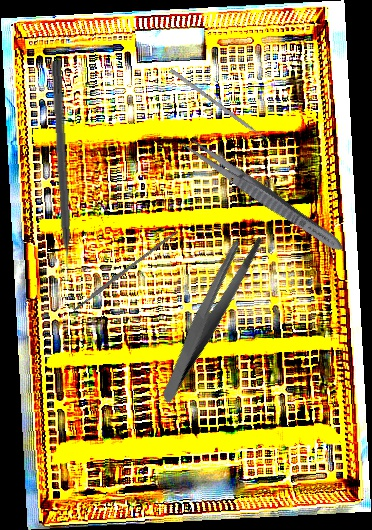Dressing Forceps: (121, 225, 297, 406), (174, 131, 350, 258)
Pusher: (169, 68, 277, 148), (48, 60, 74, 283)
Scalpel Handle: (71, 229, 180, 312)
